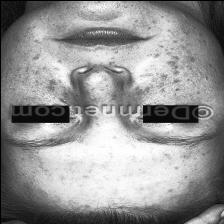Non-Cancerous Skin Condition: (57, 148, 195, 210), (3, 51, 128, 102), (148, 40, 206, 94)
